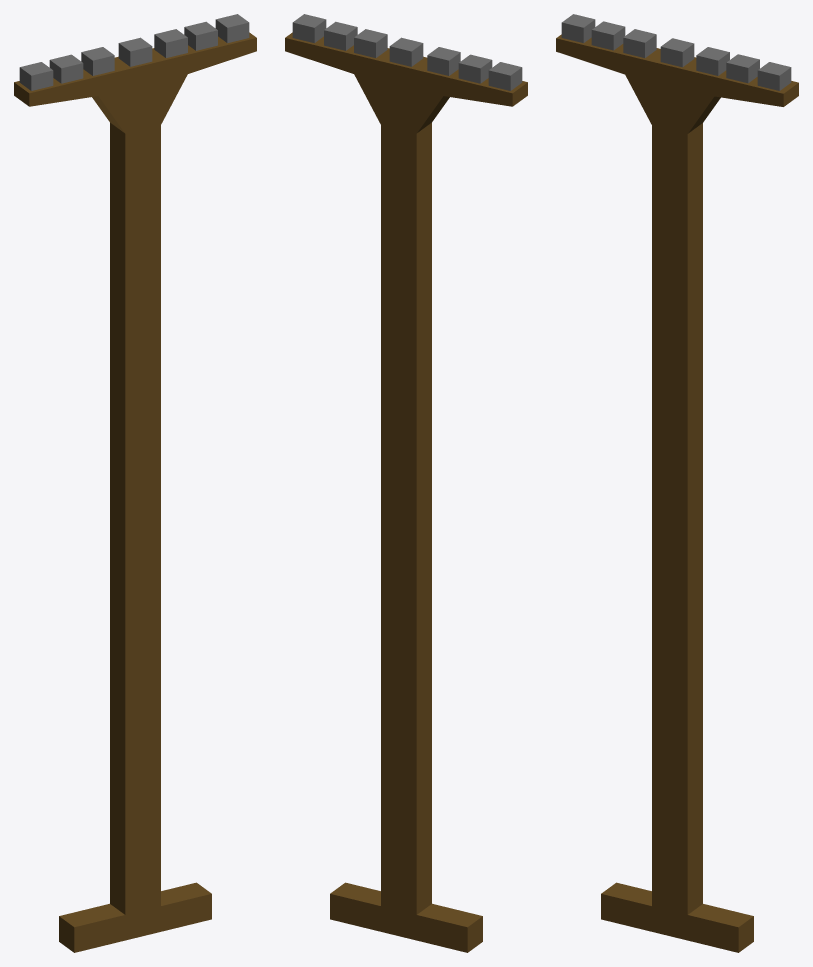
Rendered from mesh_rake_2.fbx.
3 views of the same model, side by side, from view 1: azimuth 30°, elevation 25°; view 2: azimuth 150°, elevation 25°; view 3: azimuth 330°, elevation 25° (orthographic).
Visible parts, largest first — view 1: rake_2; view 2: rake_2; view 3: rake_2.
Part boxes in pixels (x1,y1,x2,y2): rake_2: [14, 14, 256, 952]; rake_2: [285, 14, 527, 952]; rake_2: [556, 14, 798, 952].
Size of the model in its own units: 38.67 by 144 by 4.51.
Materials: 1 (1 with a texture image).
